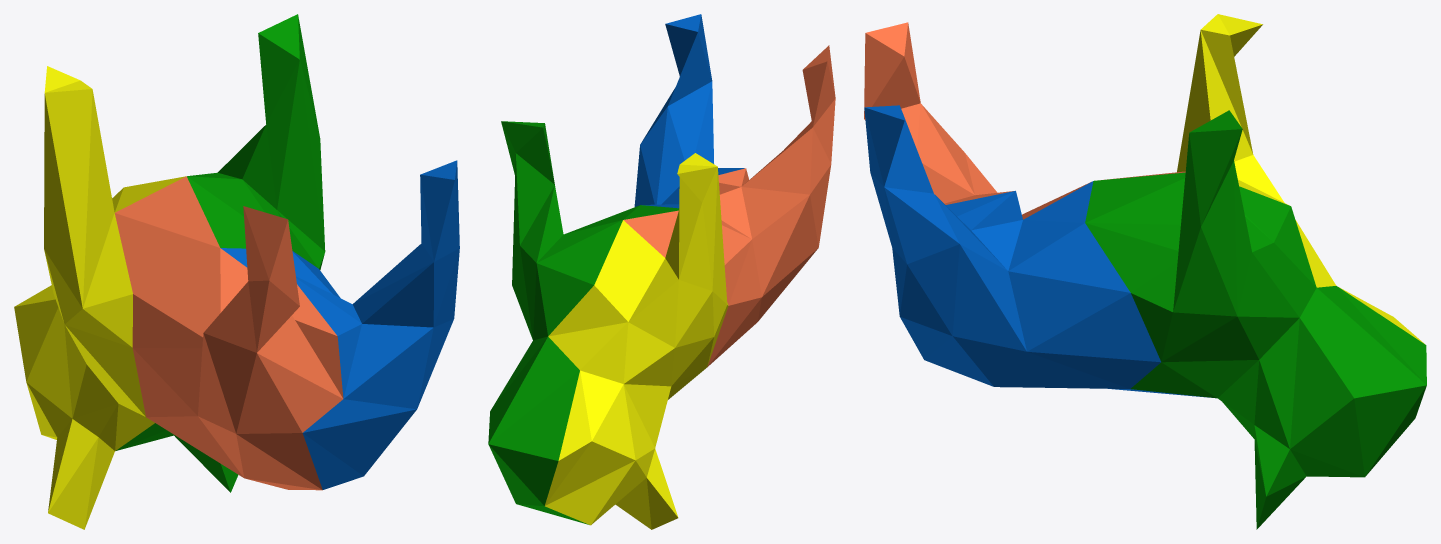
File: bouledogue200_4C.obj
3 views of the same model, side by side, from view 1: azimuth 30°, elevation 25°; view 2: azimuth 150°, elevation 25°; view 3: azimuth 270°, elevation 25° (orthographic). The views are drawn at different scales.
Parts seen in each view (by area): view 1: STL_couleur_256_121_074, STL_couleur_256_256_001, STL_couleur_000_102_203, STL_couleur_000_153_000; view 2: STL_couleur_256_256_001, STL_couleur_000_153_000, STL_couleur_256_121_074, STL_couleur_000_102_203; view 3: STL_couleur_000_153_000, STL_couleur_000_102_203, STL_couleur_256_121_074, STL_couleur_256_256_001.
Part boxes in pixels (x1,y1,x2,y2): STL_couleur_256_121_074: [114, 176, 343, 490]; STL_couleur_256_256_001: [14, 66, 185, 529]; STL_couleur_000_102_203: [221, 160, 459, 489]; STL_couleur_000_153_000: [116, 14, 325, 492]; STL_couleur_256_256_001: [545, 153, 728, 529]; STL_couleur_000_153_000: [488, 121, 679, 524]; STL_couleur_256_121_074: [623, 45, 835, 366]; STL_couleur_000_102_203: [634, 14, 744, 208]; STL_couleur_000_153_000: [1085, 110, 1426, 529]; STL_couleur_000_102_203: [864, 105, 1215, 398]; STL_couleur_256_121_074: [864, 22, 1185, 219]; STL_couleur_256_256_001: [1177, 14, 1424, 343].
Size of the model in its own units: 96.63 by 164 by 194.
